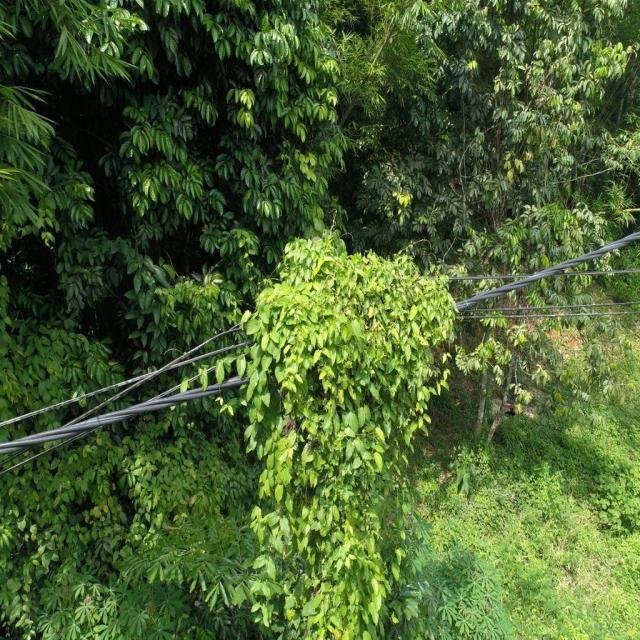critical vegetation: (241, 231, 466, 640)
